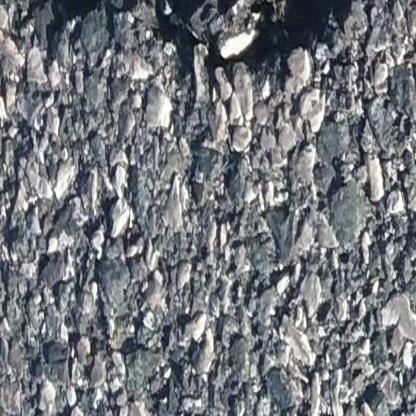Cracks: (0, 0, 363, 80)
